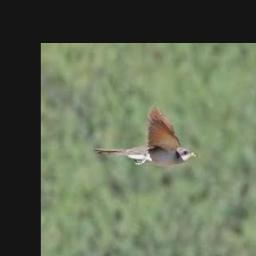Cuckoo: (94, 106, 197, 165)
